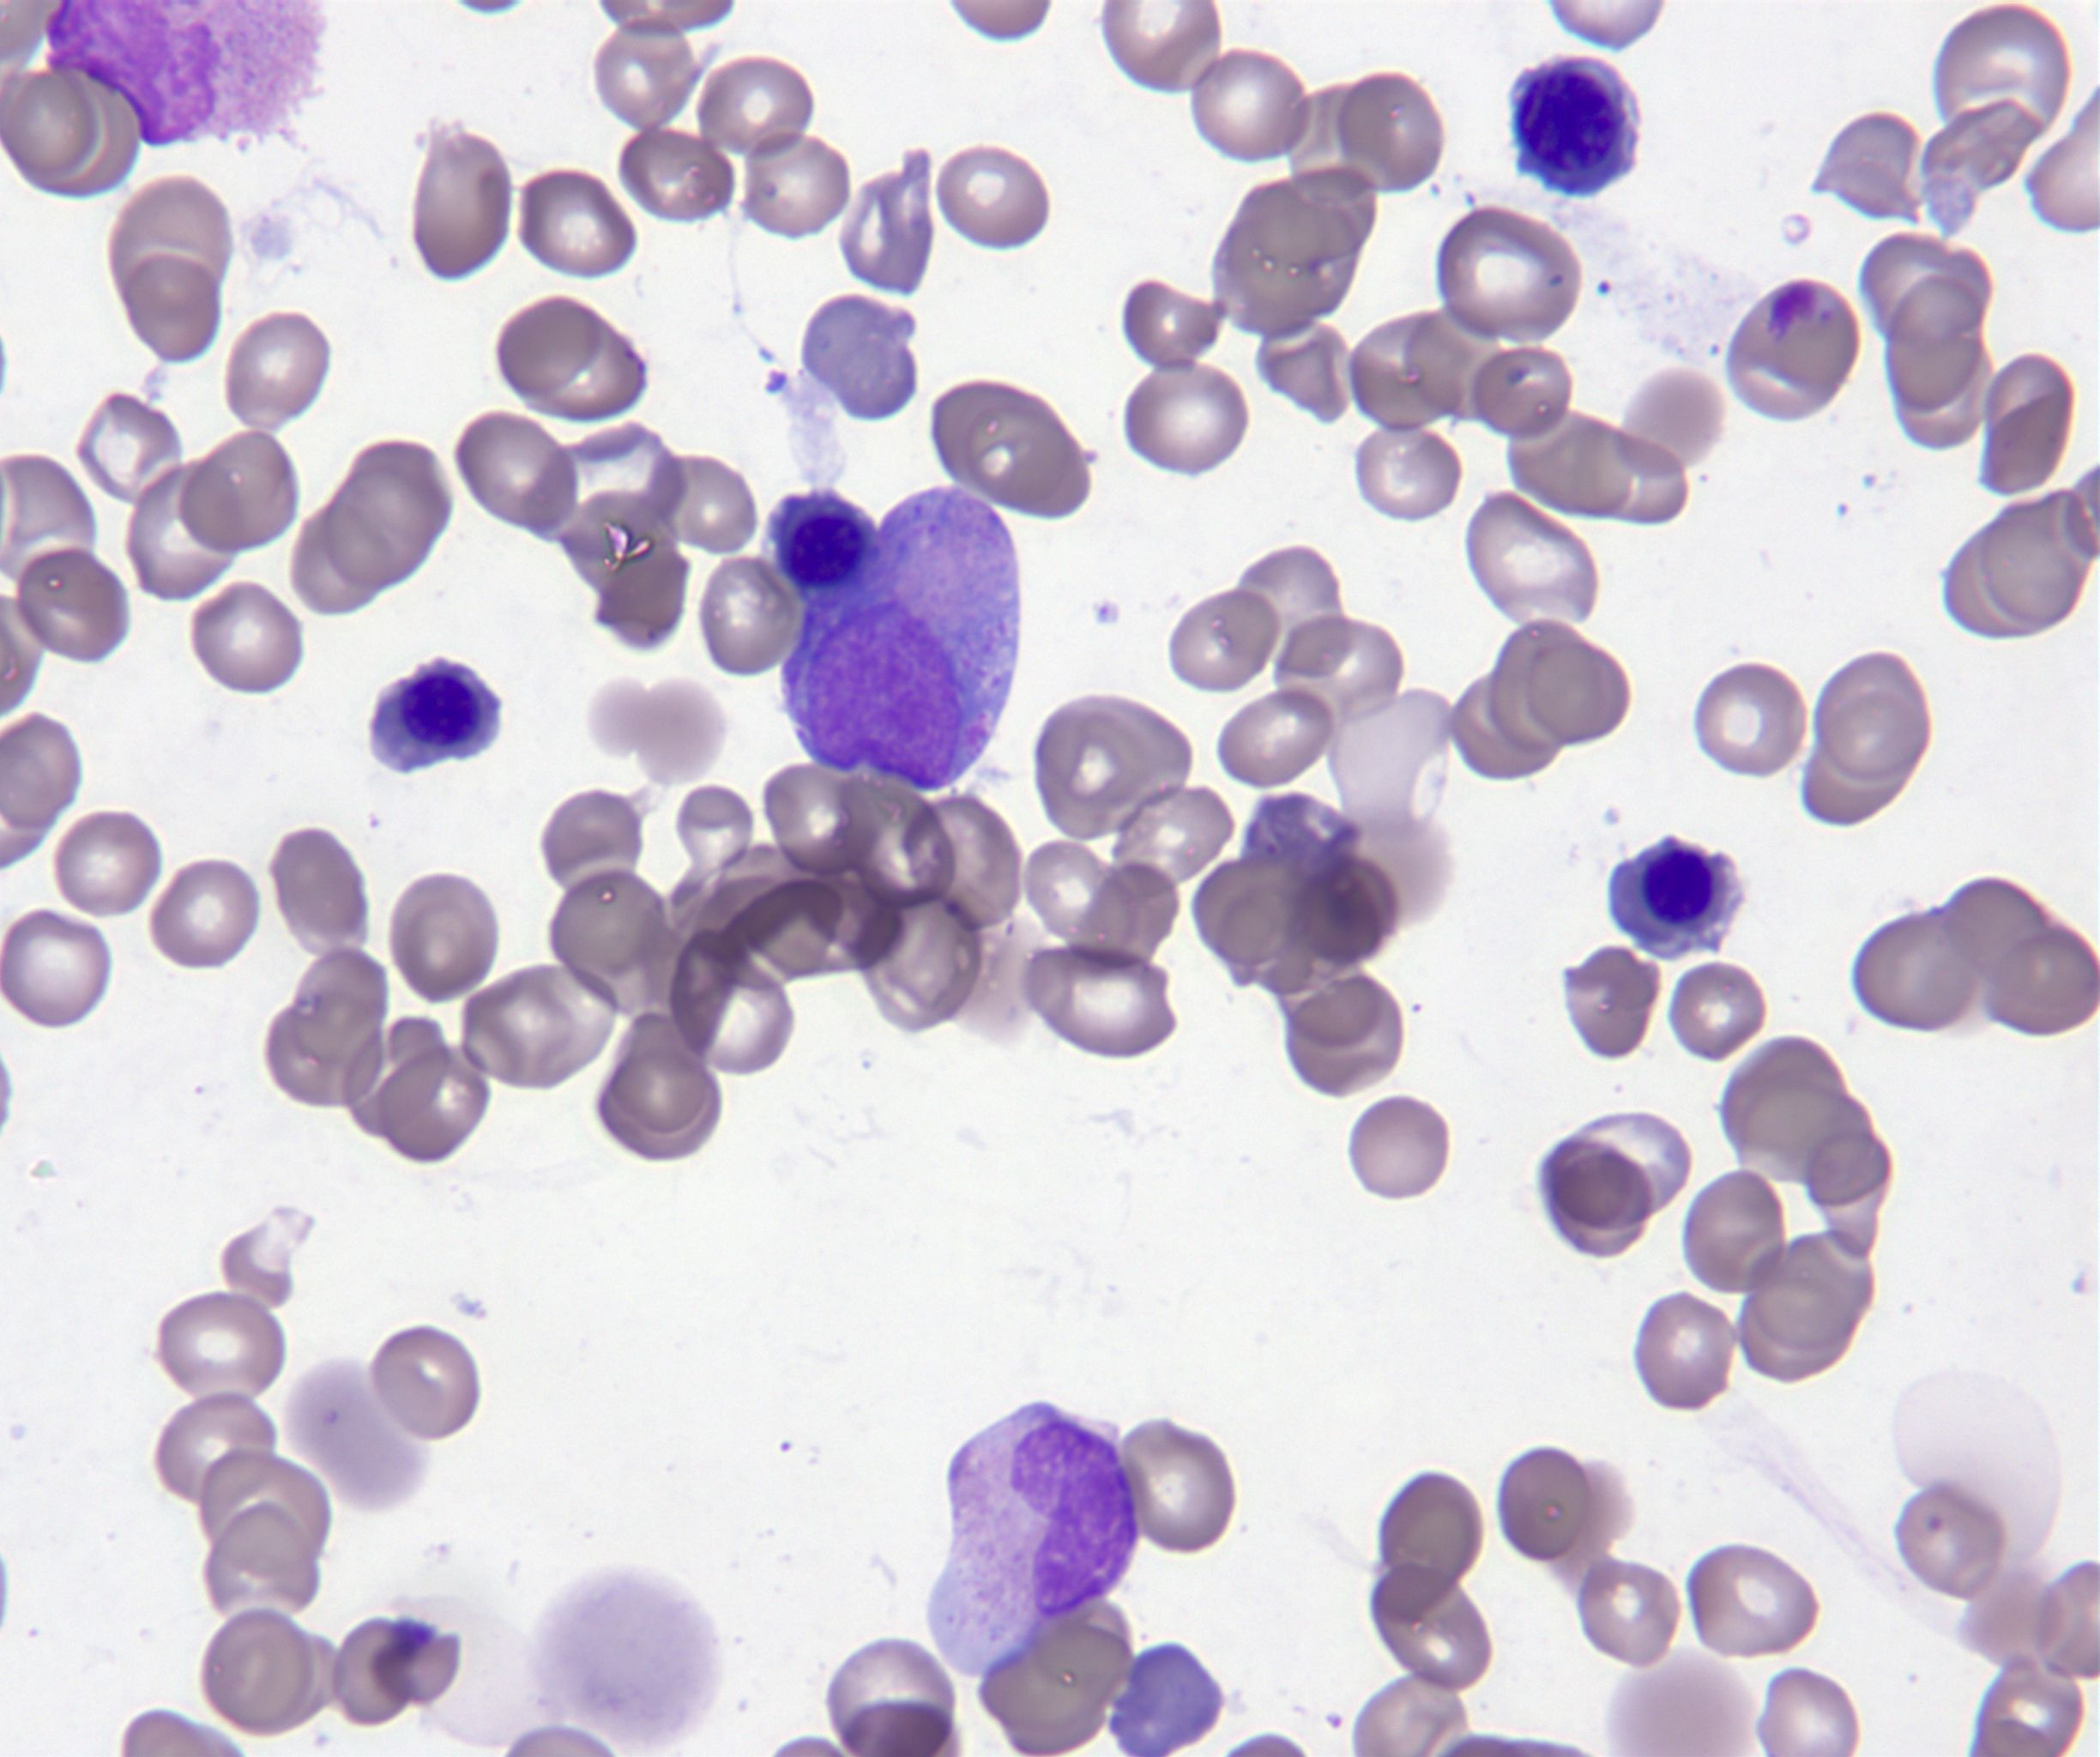24: (1507, 54, 1645, 197), (1610, 837, 1742, 960), (368, 656, 499, 776), (764, 485, 883, 607)
3: (783, 490, 1020, 789)
4: (931, 1406, 1139, 1678)
x: (47, 2, 326, 152)
